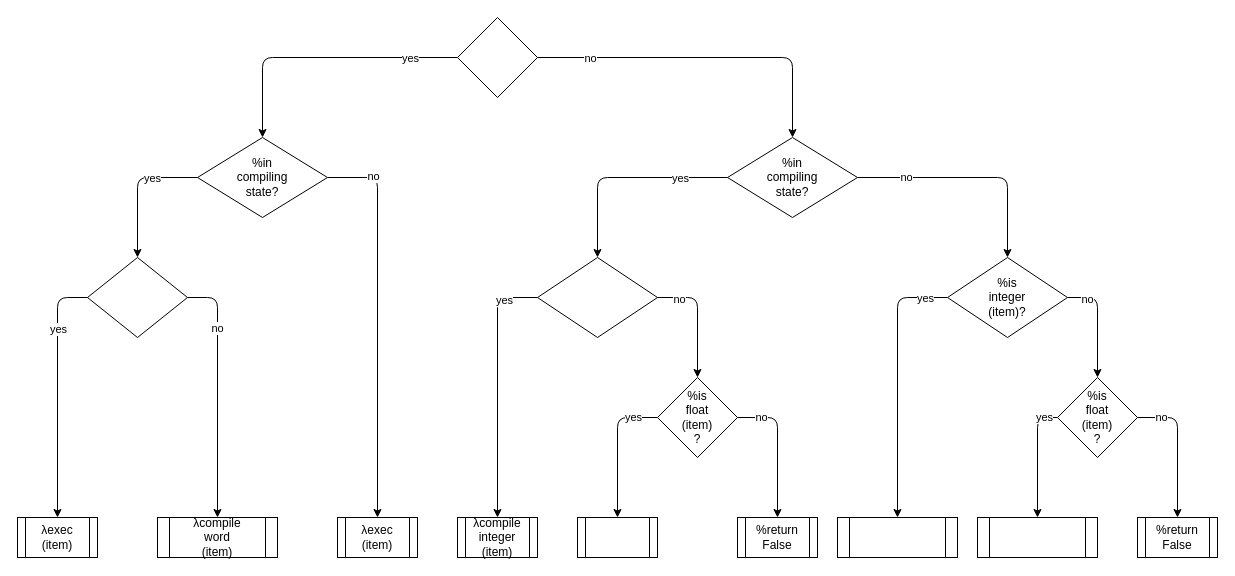
Some shapes in this 1235 by 576 pixel diagram are drawn without their labels. Each missing label, with the centre of its shape:
%is integer (item) ?: pixel 597 297
found immediate ?: pixel 137 297
found?: pixel 497 57
λcompile float (item): pixel 617 537
λpush as float (item): pixel 1037 537
λpush as integer (item): pixel 897 537
